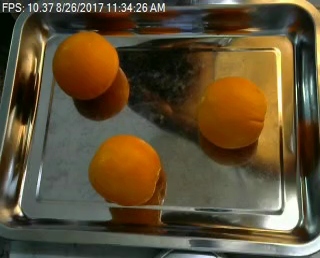Orange: (89, 134, 161, 205), (198, 77, 268, 148), (52, 30, 119, 100)
